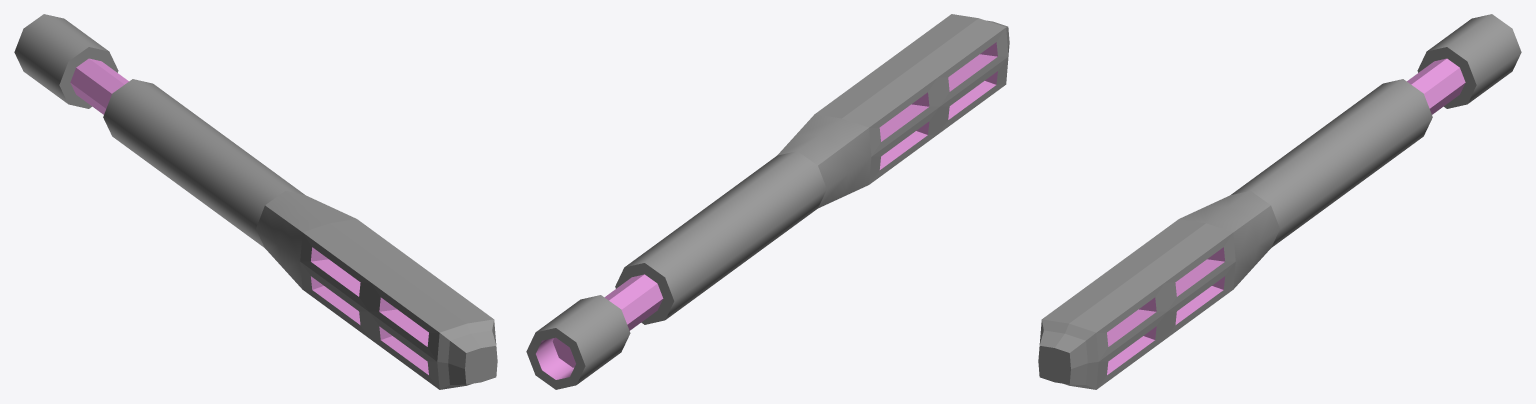
The model's file is Fighter_Gun.FBX.
The picture shows the model from 3 angles, left to right: view 1: azimuth 30°, elevation 25°; view 2: azimuth 150°, elevation 25°; view 3: azimuth 330°, elevation 25°; orthographic projection.
Parts seen in each view (by area): view 1: Gun; view 2: Gun; view 3: Gun.
Part boxes in pixels (x1=…): Gun: x1=14, y1=14, x2=497, y2=389; Gun: x1=526, y1=14, x2=1009, y2=389; Gun: x1=1038, y1=14, x2=1521, y2=389.
Bounding box in the file's own units: 6.4 × 6.42 × 81.9.
